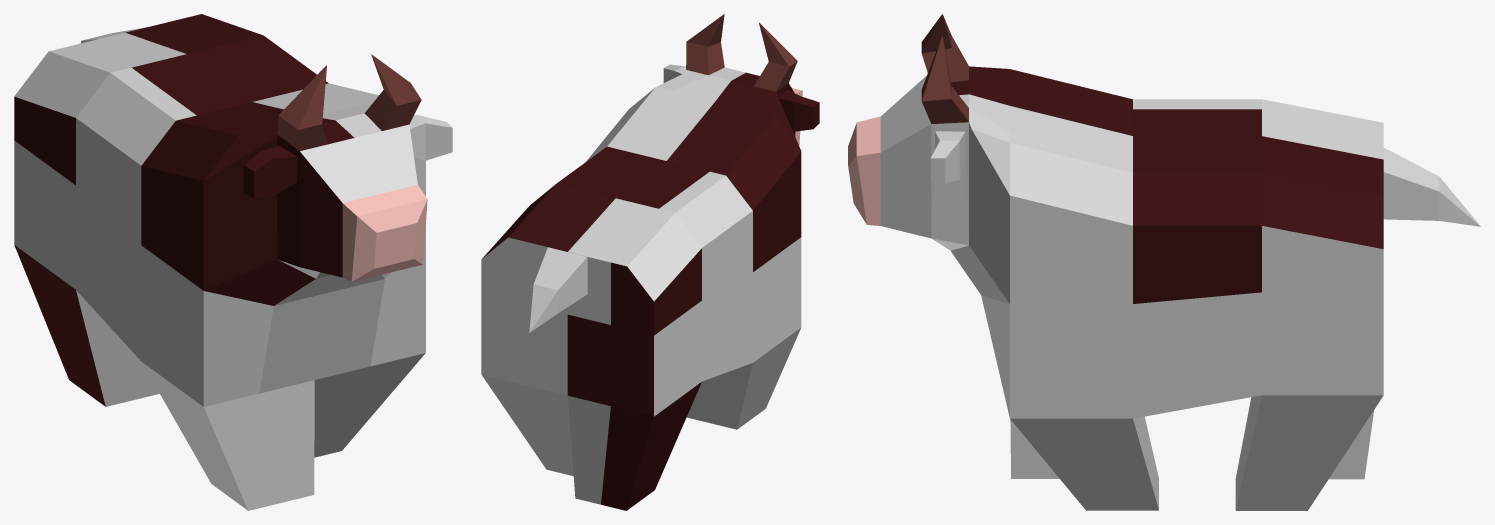
Rendered from cowu.fbx.
3 views of the same model, side by side, from view 1: azimuth 30°, elevation 25°; view 2: azimuth 150°, elevation 25°; view 3: azimuth 270°, elevation 25° (orthographic). The views are drawn at different scales.
Parts seen in each view (by area): view 1: Cube; view 2: Cube; view 3: Cube.
Boxes of the visible parts, x1,y1,x2,y2 form: Cube: (14,14,452,510); Cube: (481,14,819,510); Cube: (848,14,1480,510).
Size of the model in its own units: 200 by 397 by 501.
